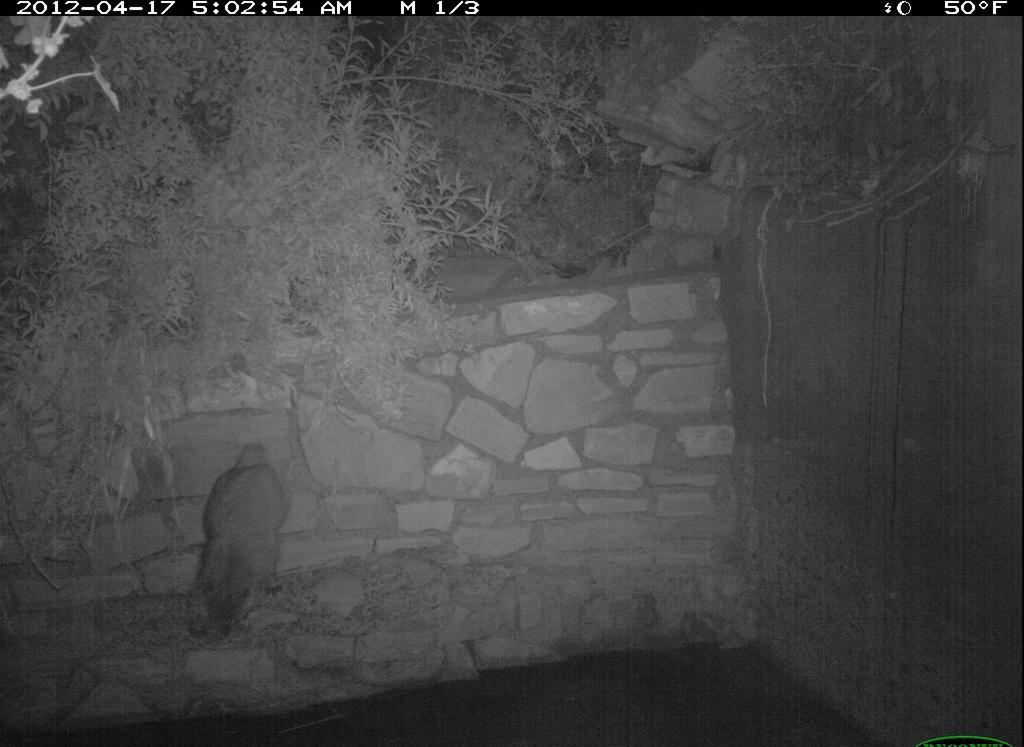raccoon: (185, 441, 294, 642)
